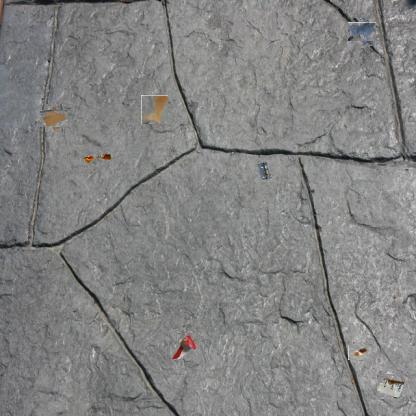dirty: (168, 332, 198, 360), (378, 372, 404, 398), (43, 106, 66, 130), (80, 151, 112, 165), (254, 161, 274, 181), (350, 343, 368, 362)
liquid: (141, 95, 168, 124), (351, 20, 374, 44)
